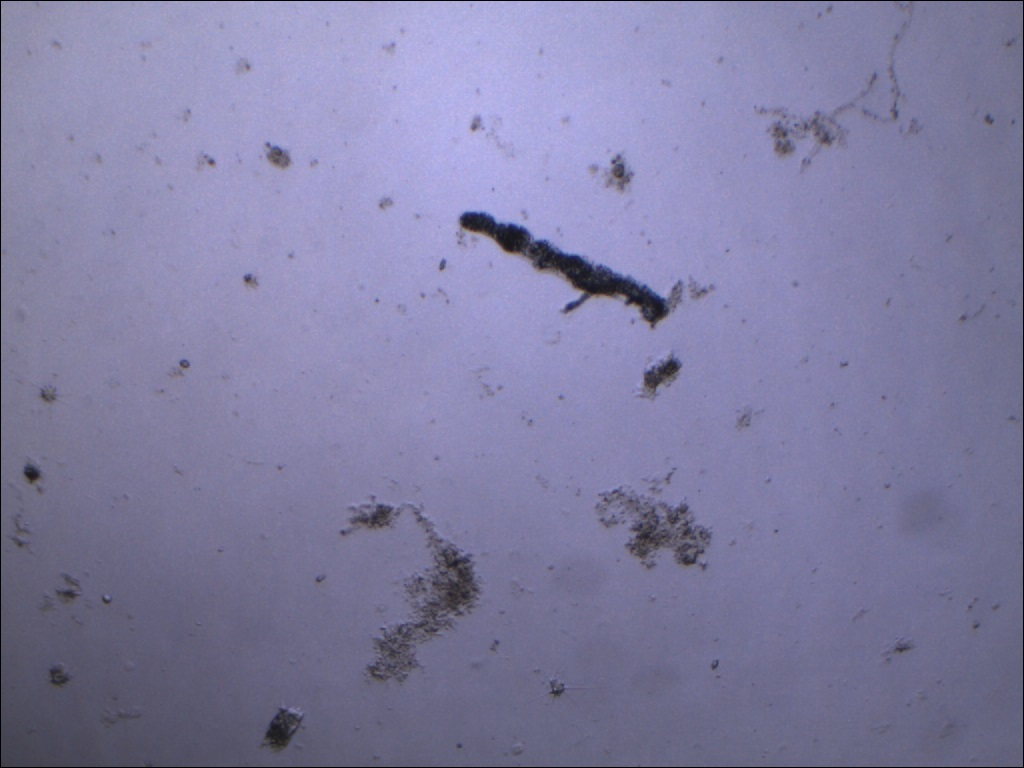amoeba: (452, 203, 676, 330)
